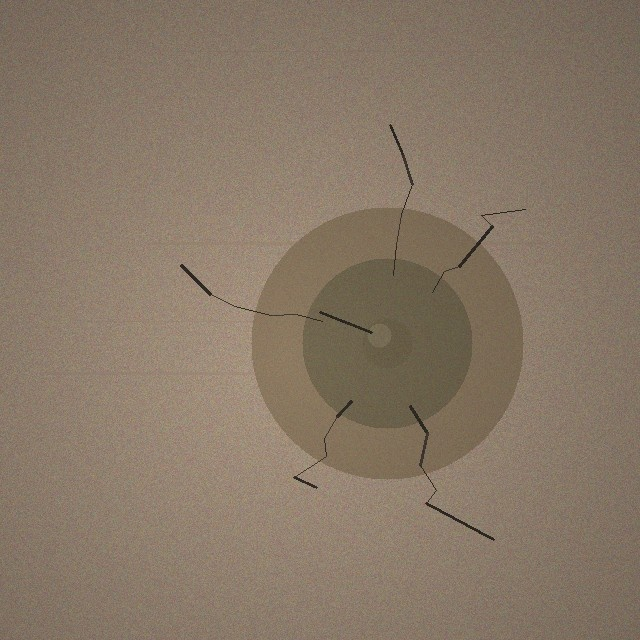crack: (251, 207, 523, 479)
